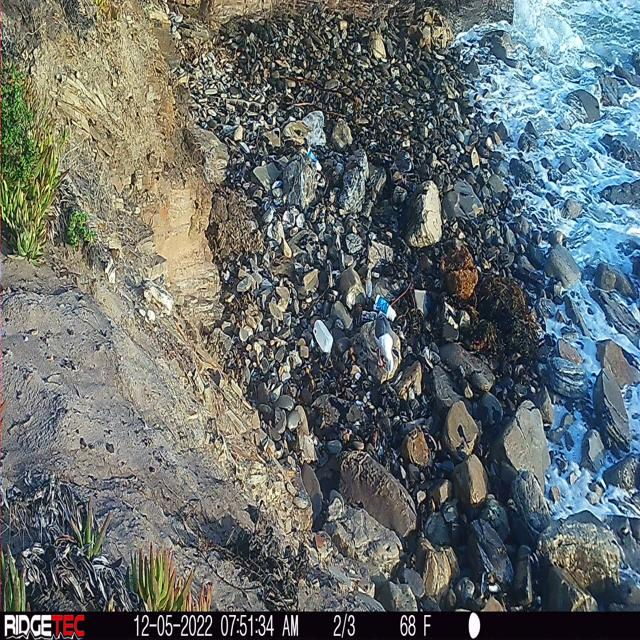bird: (390, 140, 418, 188)
